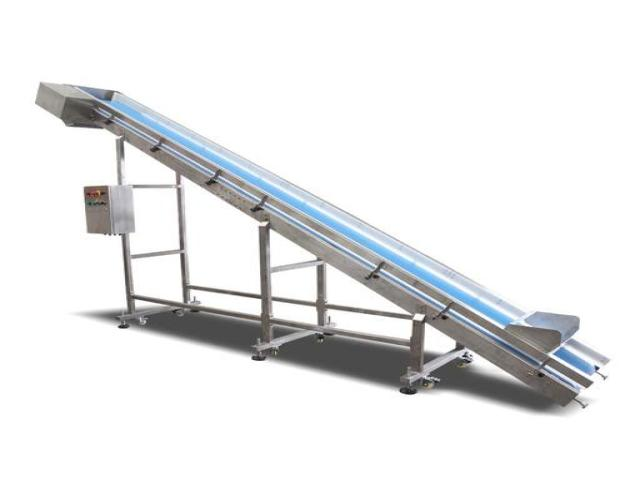conveyor: (31, 78, 611, 409)
